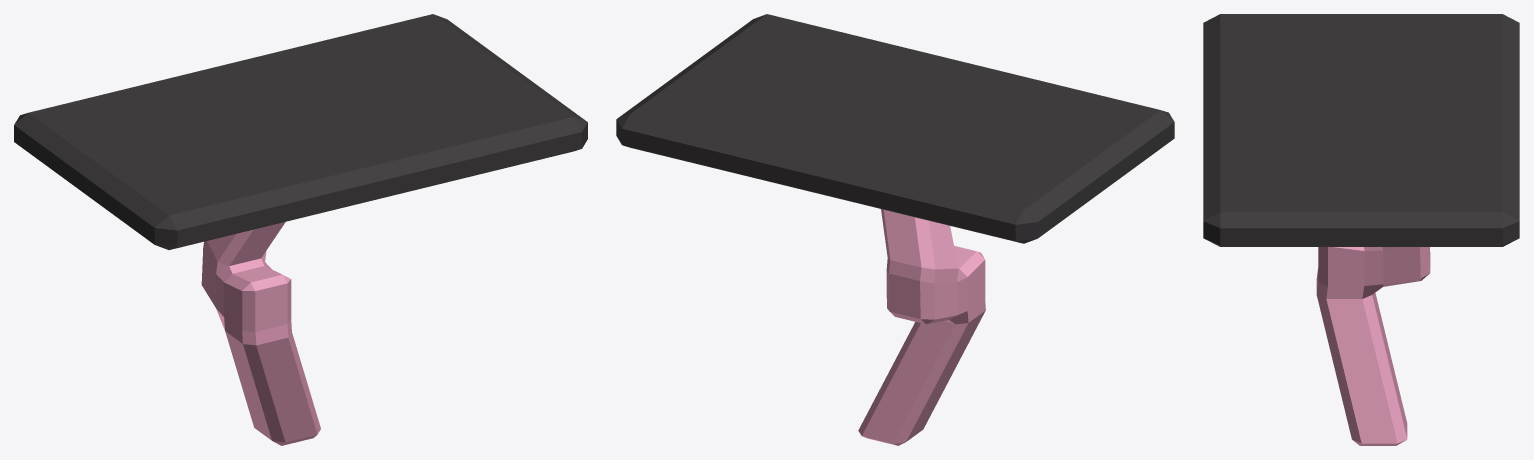
Rendered from Spider Island Level 1 Tree 1.fbx.
The picture shows the model from 3 angles, left to right: view 1: azimuth 30°, elevation 25°; view 2: azimuth 150°, elevation 25°; view 3: azimuth 270°, elevation 25°; orthographic projection. The views are drawn at different scales.
Parts seen in each view (by area): view 1: Cube; view 2: Cube; view 3: Cube.
Boxes of the visible parts, x1,y1,x2,y2 form: Cube: (14,14,587,445); Cube: (616,14,1174,445); Cube: (1203,14,1519,445).
Bounding box in the file's own units: 7.27 × 5.22 × 4.58.
